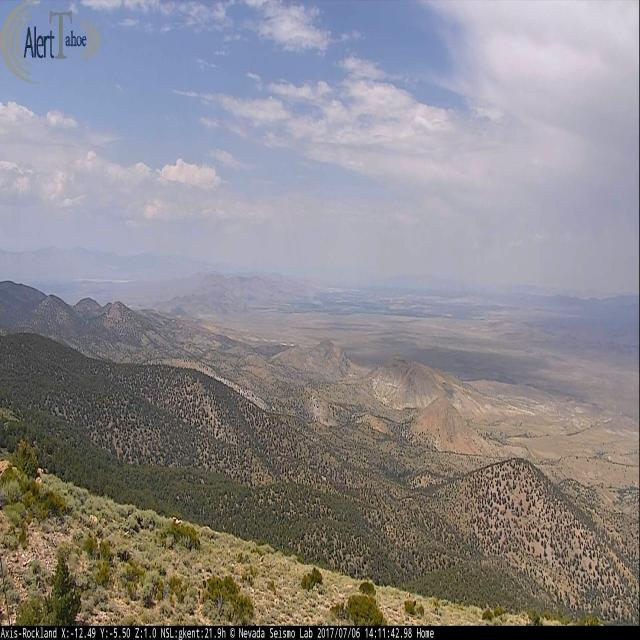smoke: (309, 290, 321, 306)
